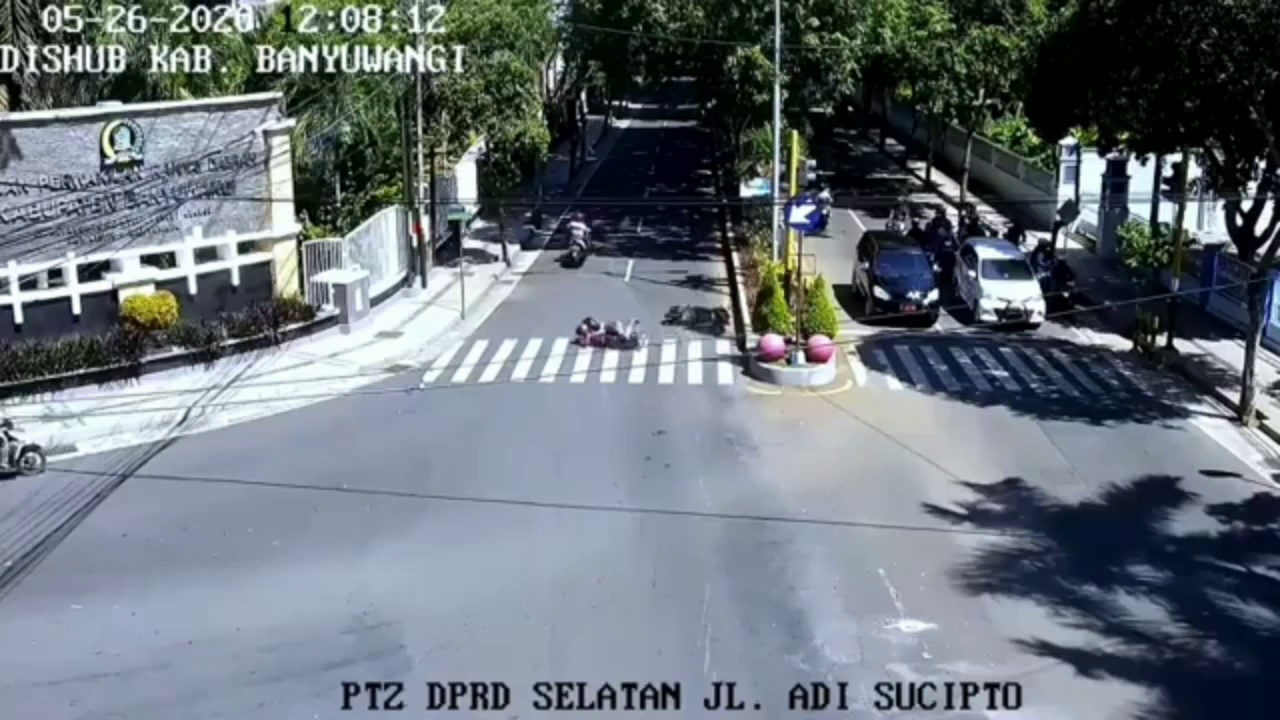car: (852, 230, 940, 329), (957, 234, 1041, 333), (563, 213, 590, 270)
